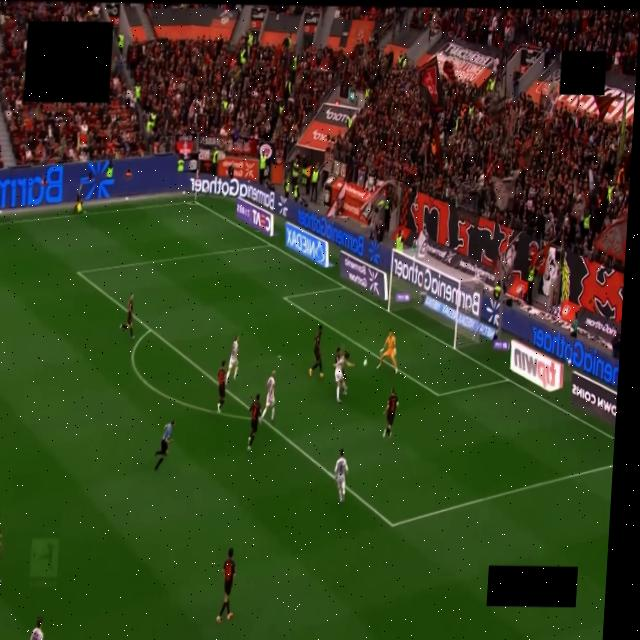ball: (363, 359, 366, 366)
player: (216, 548, 235, 621), (334, 353, 353, 402), (333, 449, 349, 503), (377, 331, 397, 373), (308, 325, 323, 378), (382, 389, 398, 437), (247, 394, 260, 451), (260, 371, 274, 421), (120, 293, 133, 338), (226, 336, 238, 382), (217, 362, 226, 412), (0, 512, 5, 586), (30, 617, 42, 639), (341, 367, 346, 393)
referee: (154, 419, 174, 470)
